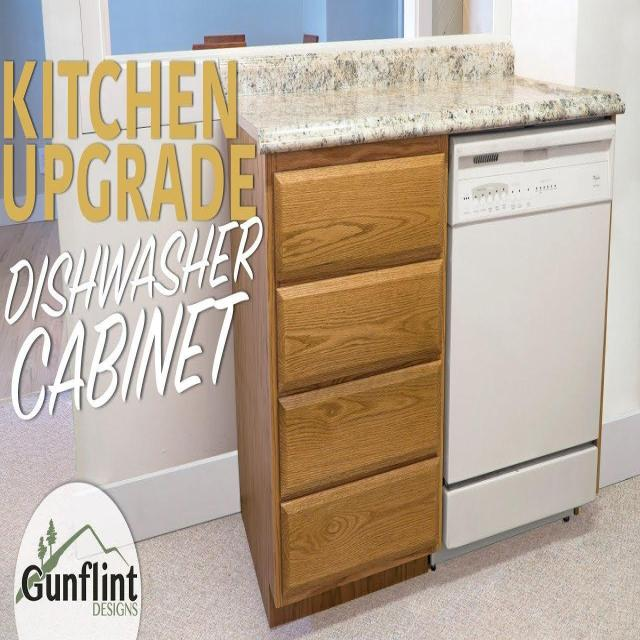dishwasher: (441, 123, 612, 563)
